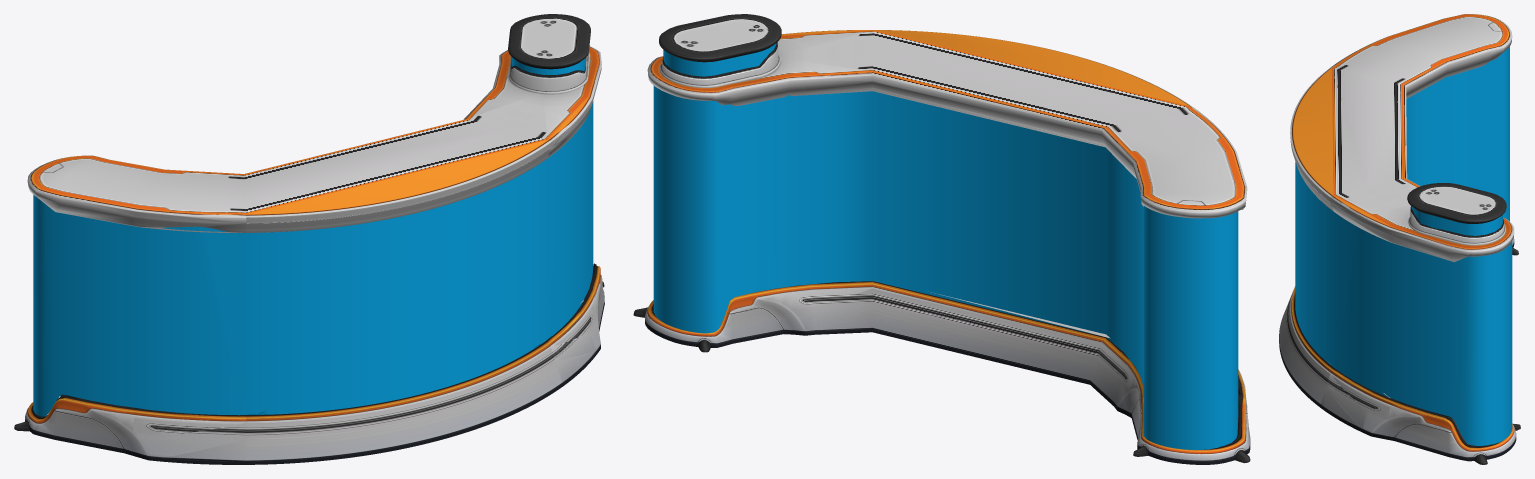
Rendered from UShapedAquariumModel.fbx.
The picture shows the model from 3 angles, left to right: view 1: azimuth 30°, elevation 25°; view 2: azimuth 150°, elevation 25°; view 3: azimuth 270°, elevation 25°; orthographic projection. The views are drawn at different scales.
Parts seen in each view (by area): view 1: Aquarium_glass, Aquarium_1; view 2: Aquarium_glass, Aquarium_1; view 3: Aquarium_glass, Aquarium_1.
Boxes of the visible parts, x1,y1,x2,y2 form: Aquarium_glass: (33,101,593,416); Aquarium_1: (14,14,604,464); Aquarium_glass: (653,85,1238,449); Aquarium_1: (633,14,1250,464); Aquarium_glass: (1295,46,1512,445); Aquarium_1: (1279,14,1520,464).
Size of the model in its own units: 518 by 230 by 214.
